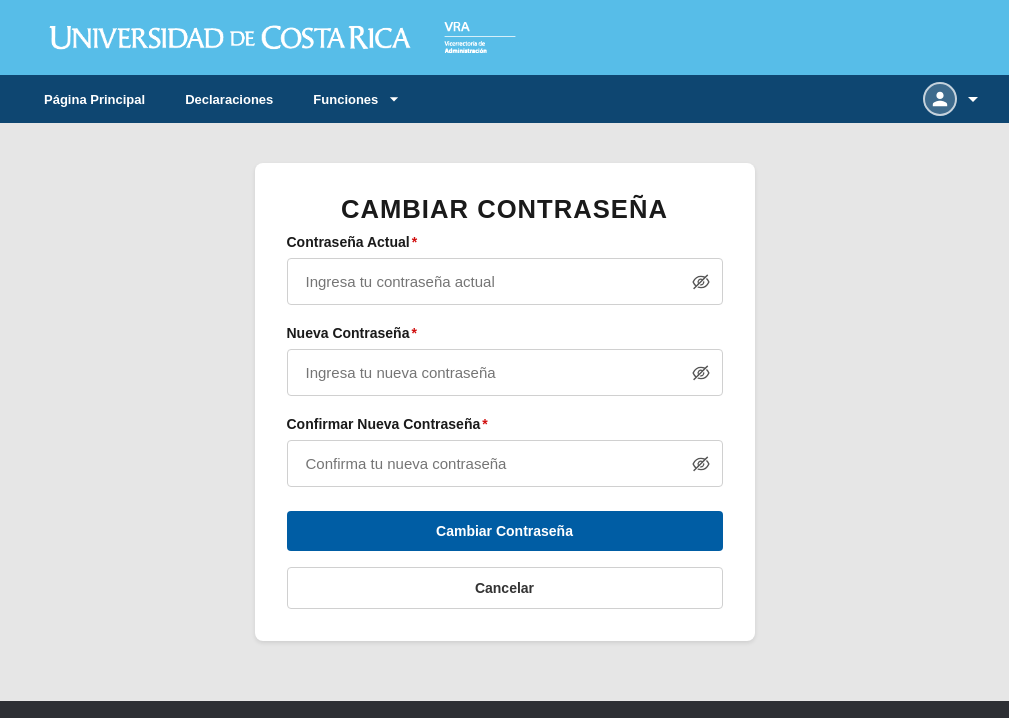
it: ChangePassword Page › muestra error cuando las contraseñas no coinciden
The image size is (1024, 718).
Type "OldPass1!@" into the password field with placeholder "Ingresa tu contraseña actual" at x=504, y=282, box [286,258,722,305]
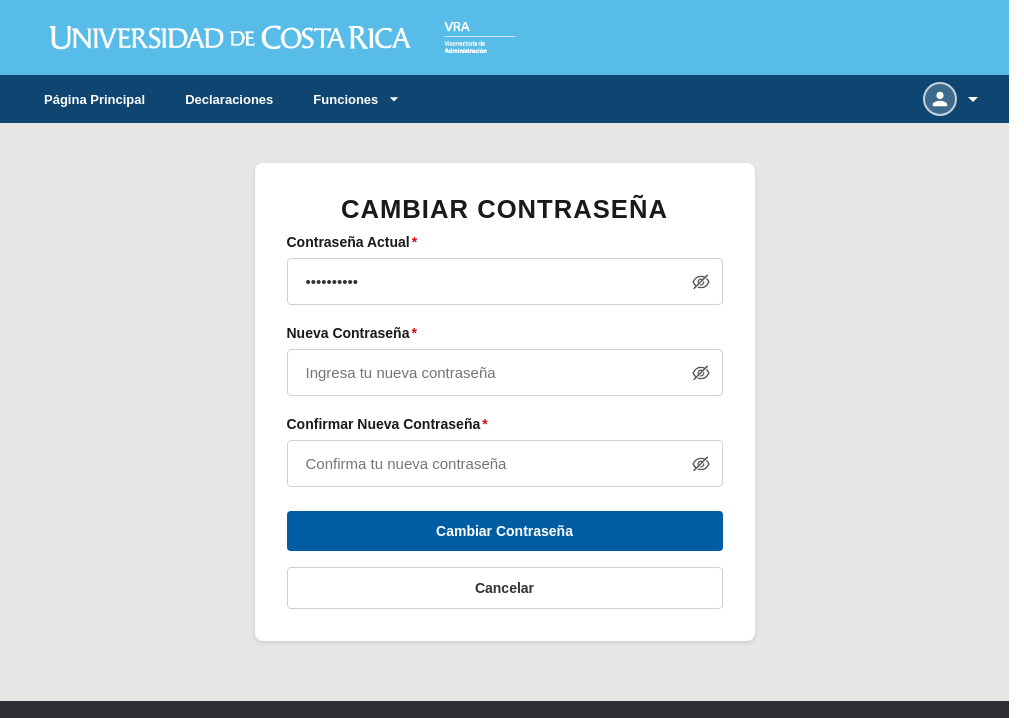
Type "NewPass12345!" into the password field with placeholder "Ingresa tu nueva contraseña" at x=504, y=372, box [286,349,722,396]
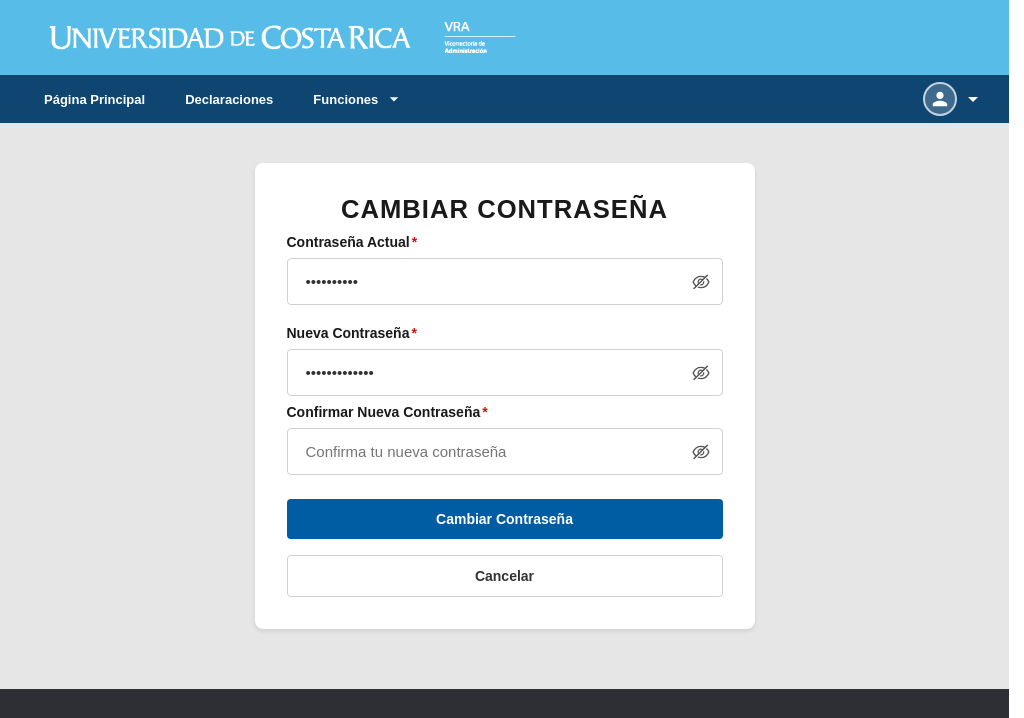
Type "DifferentPass1!" into the password field with placeholder "Confirma tu nueva contraseña" at x=504, y=452, box [286,428,722,475]
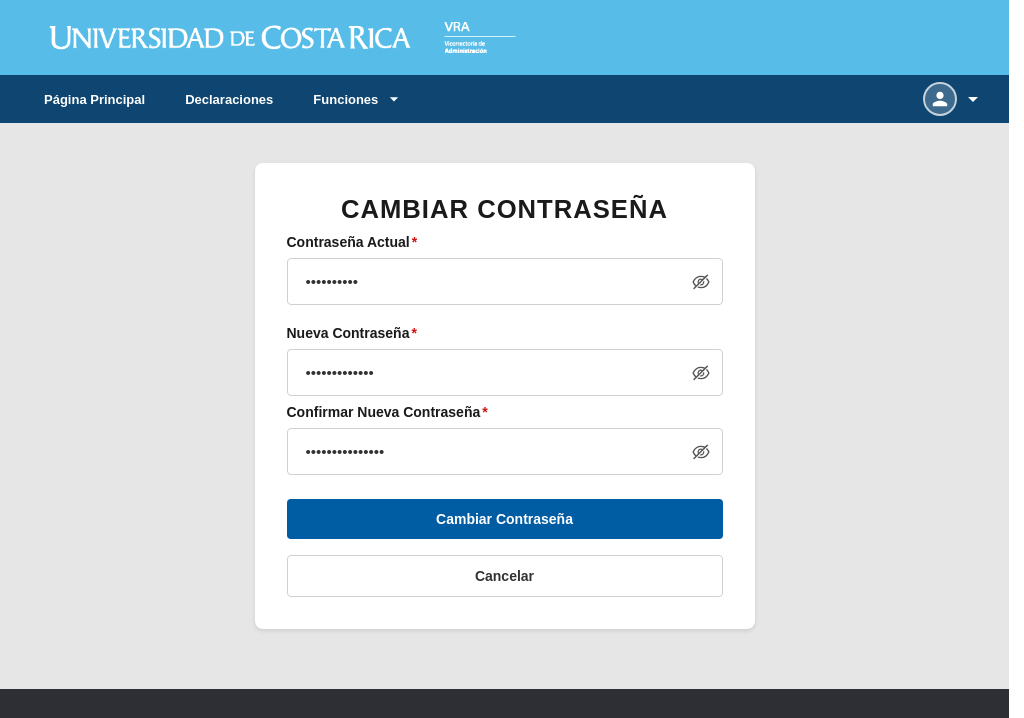
Submit the form, box [254,163,754,629]
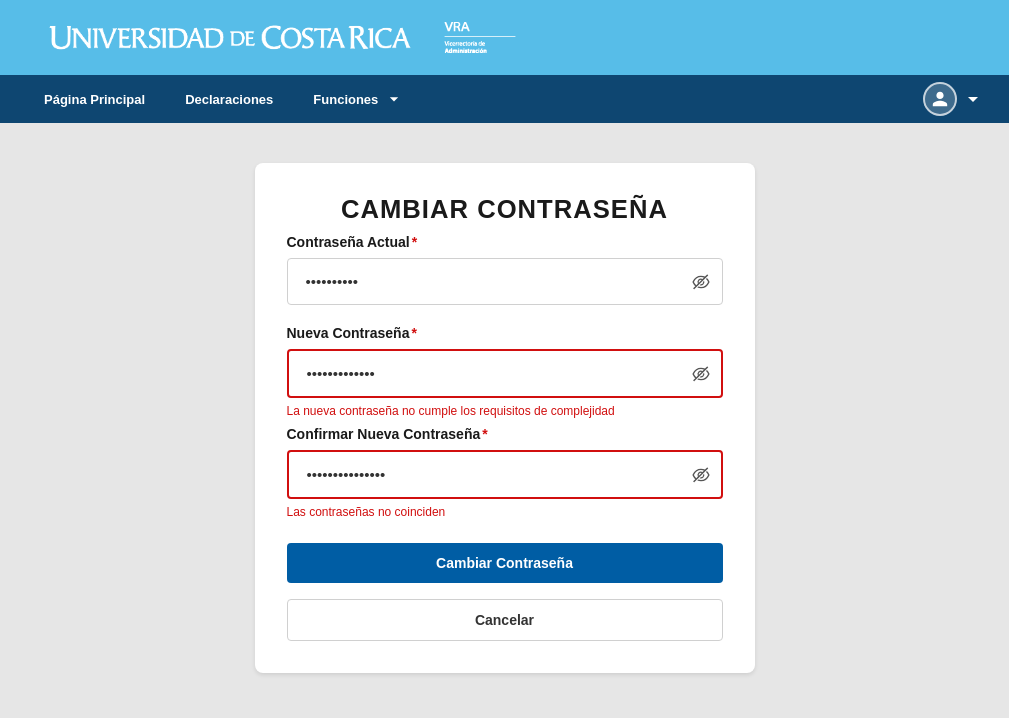
Result: the text "Las contraseñas no coinciden" is shown at [286,505,445,519]
